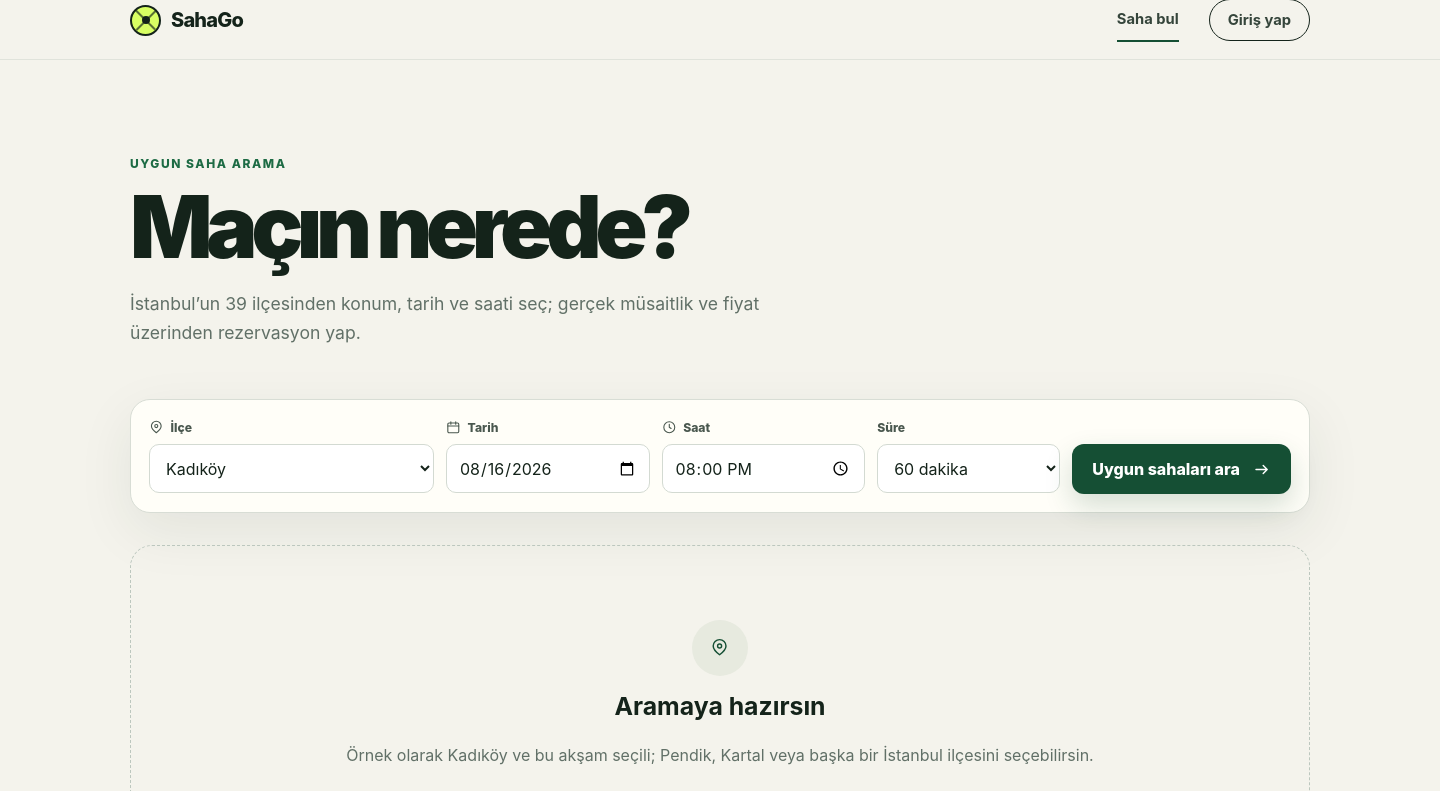
frontend routes › shows the API problem when availability search fails
Click the button "Uygun sahaları ara" at coordinates (1182, 469), box [1072,444,1291,494]
(page scrolled)
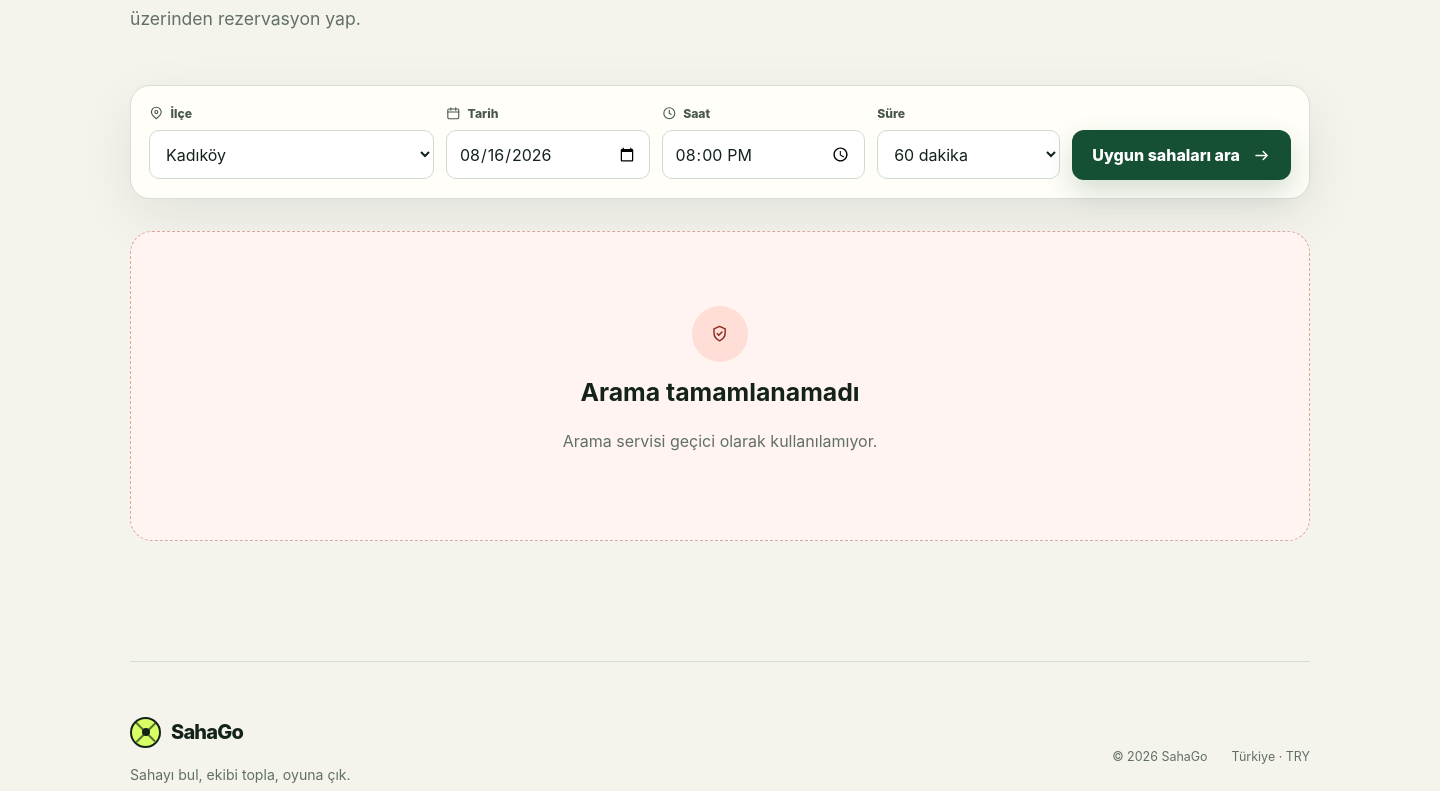
Result: the message shows "Arama servisi geçici olarak kullanılamıyor." at [563,431,877,451]
